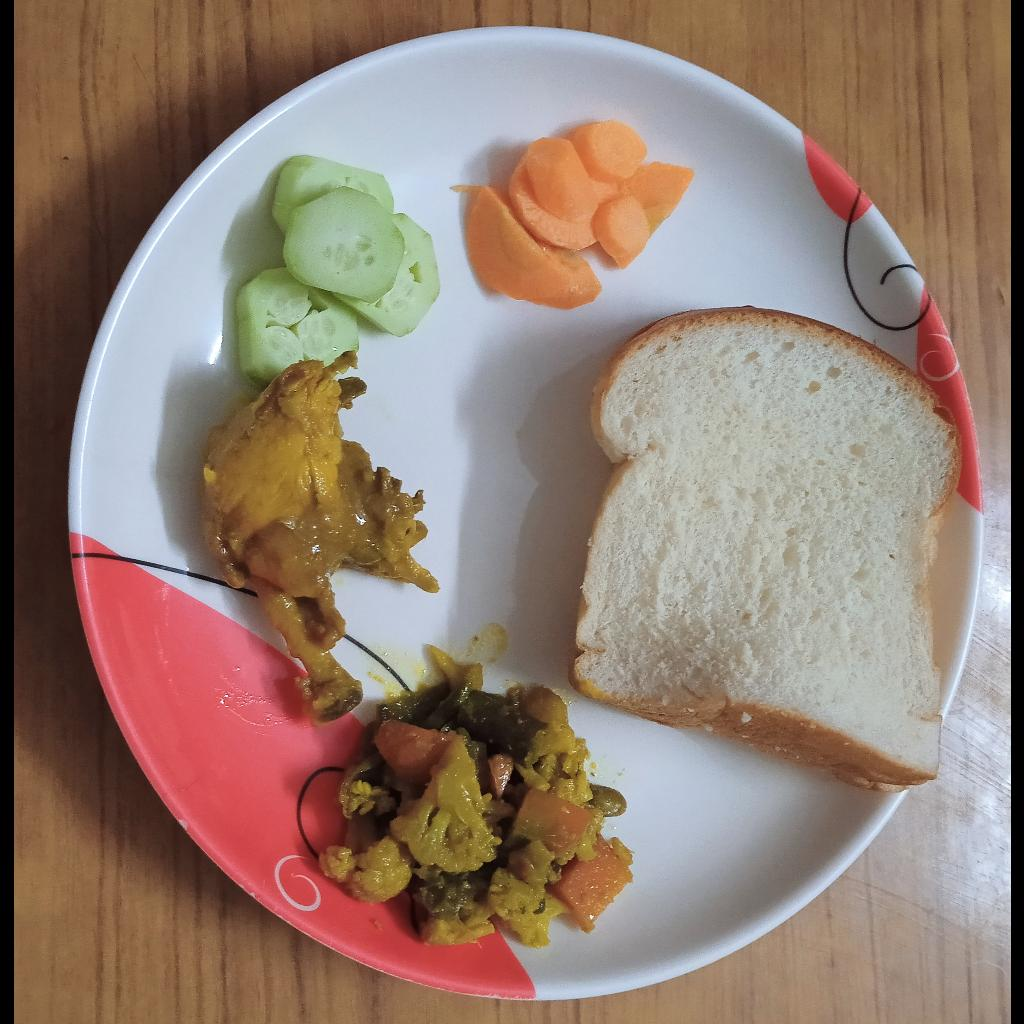bread: (568, 307, 956, 797)
carrot: (462, 118, 697, 310)
chicken: (198, 350, 440, 734)
cucumber: (236, 155, 441, 385)
vegetable: (324, 643, 640, 954)
